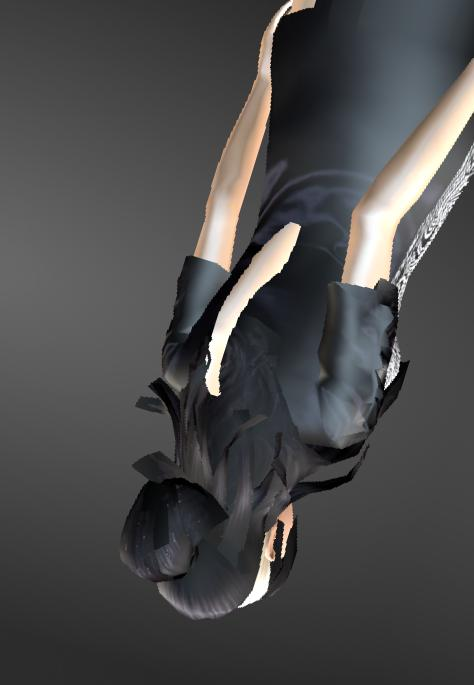clip: (200, 322, 231, 411)
